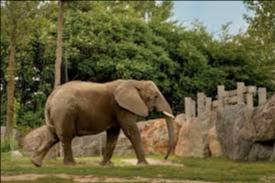Non_Gorille: (32, 32, 194, 170)
